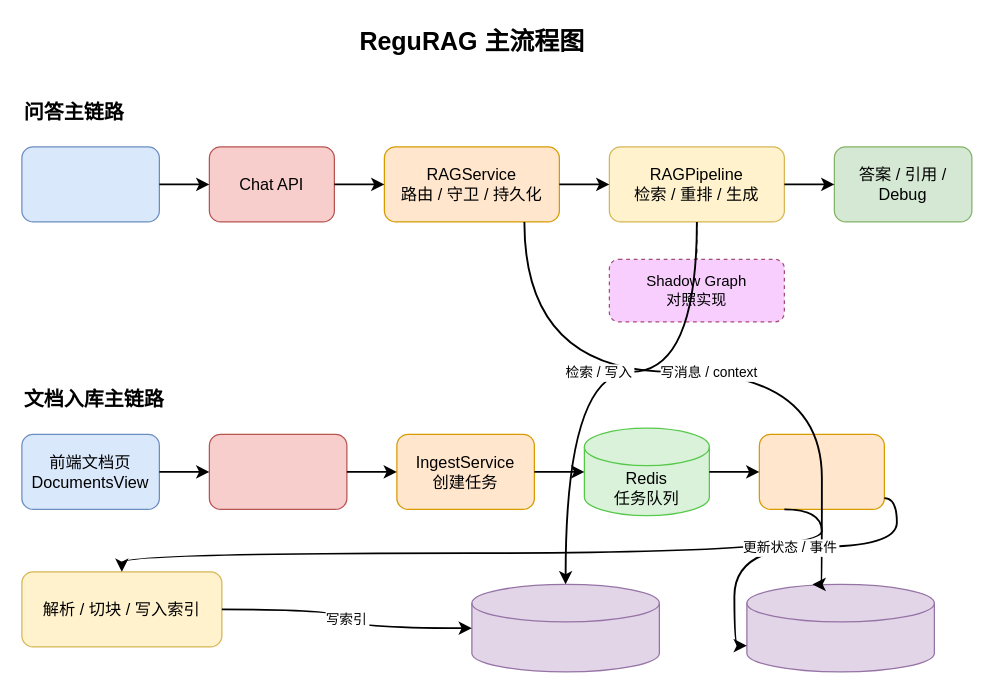
This 994x694 diagram has some shape labels left out. Each missing label, with the centre of its shape:
"Chroma / Milvus 向量索引" goes at (565,627).
"Documents / KB API" goes at (277,471).
"MySQL 知识库 / 文档 / 任务 / 消息" goes at (840,627).
"TaskWorker" goes at (821,471).
"前端问答页 ChatView" goes at (90,184).
